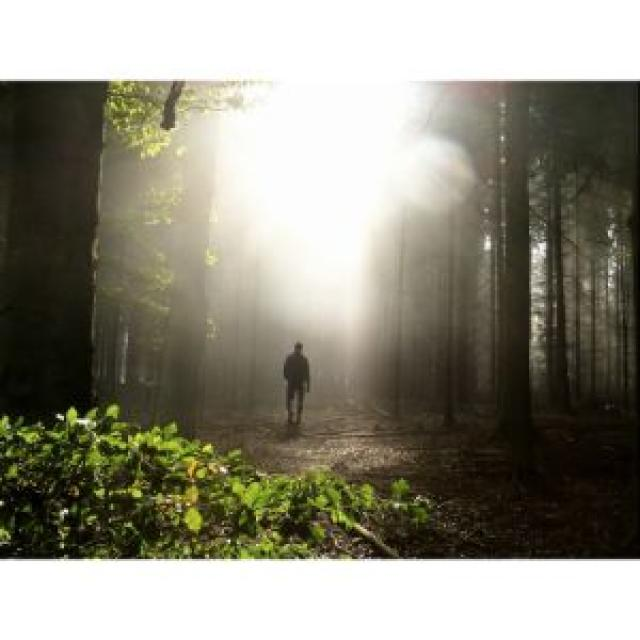nonfall: (274, 340, 328, 434)
